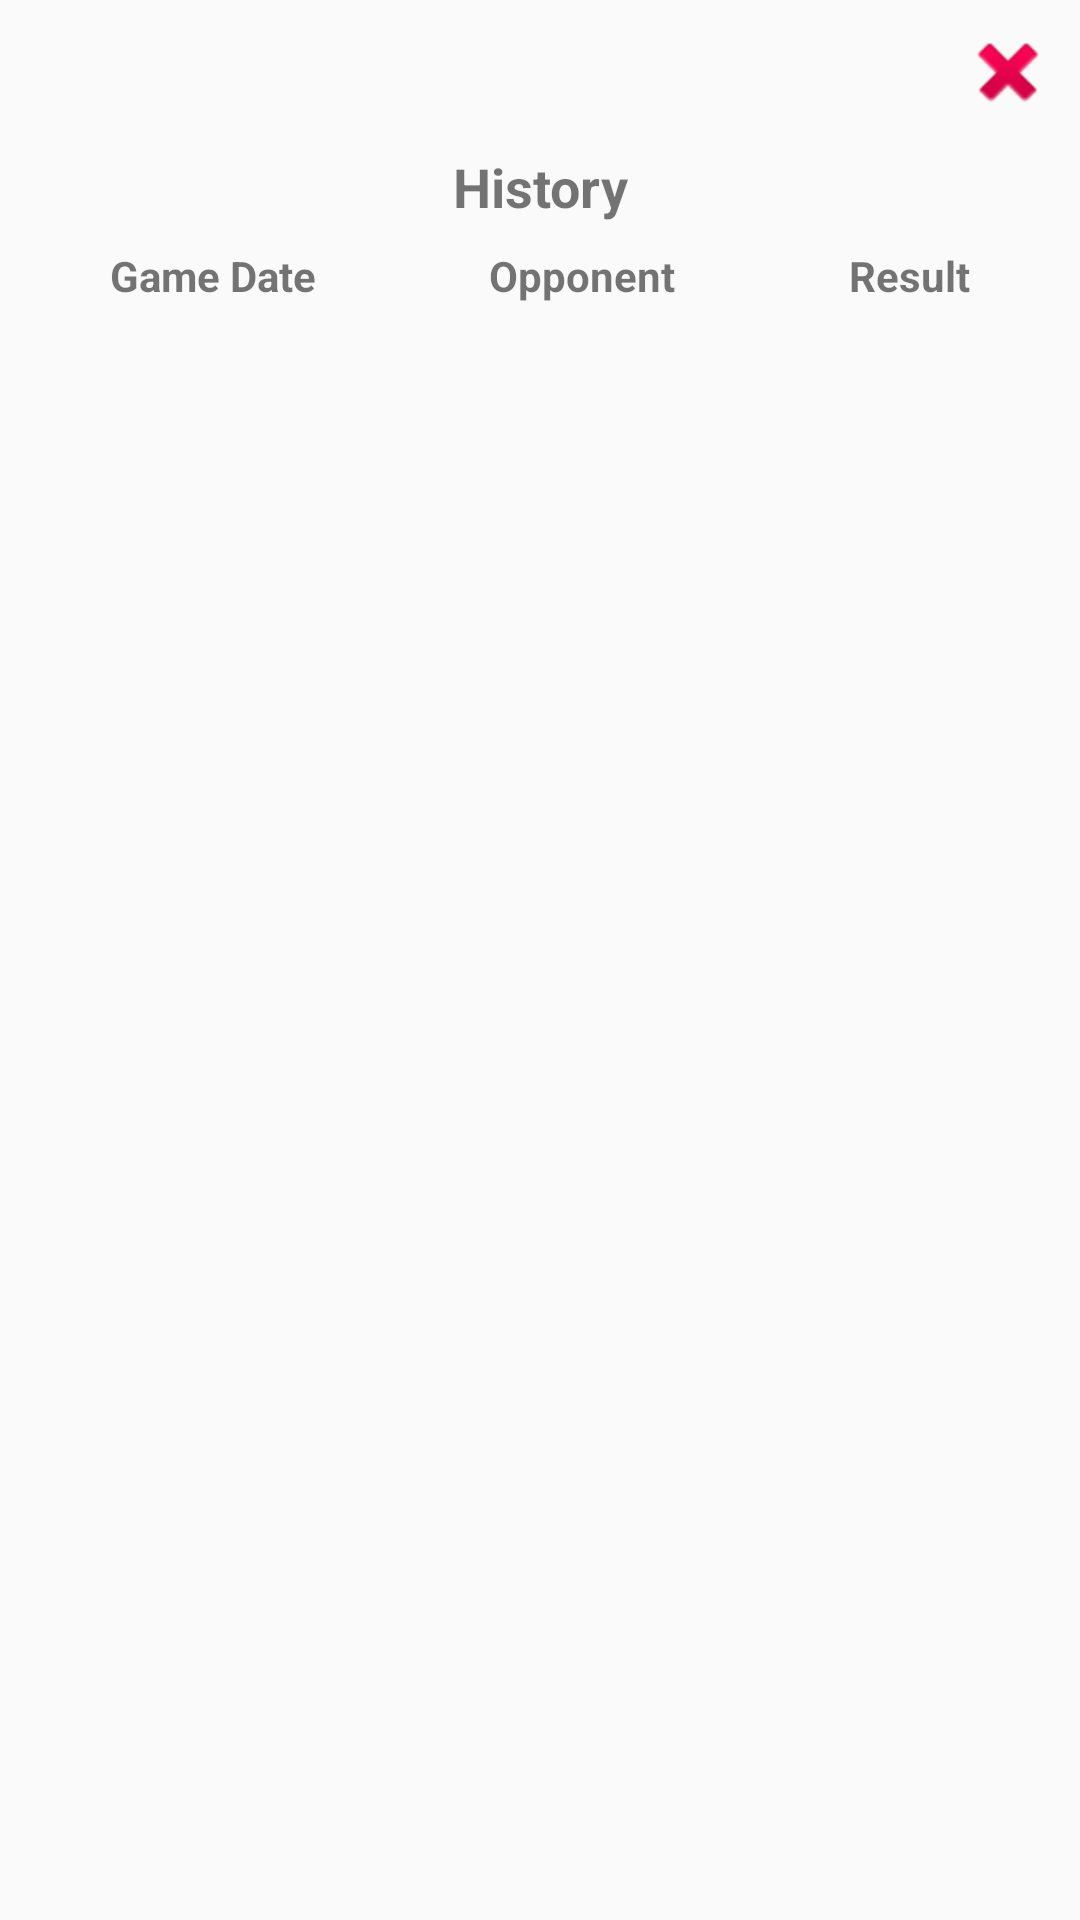

Named icons in this screenshot (1080 × 1920) and their bounding boxes, (x1, y1, x2, y2):
delete: (977, 43, 1039, 102)
